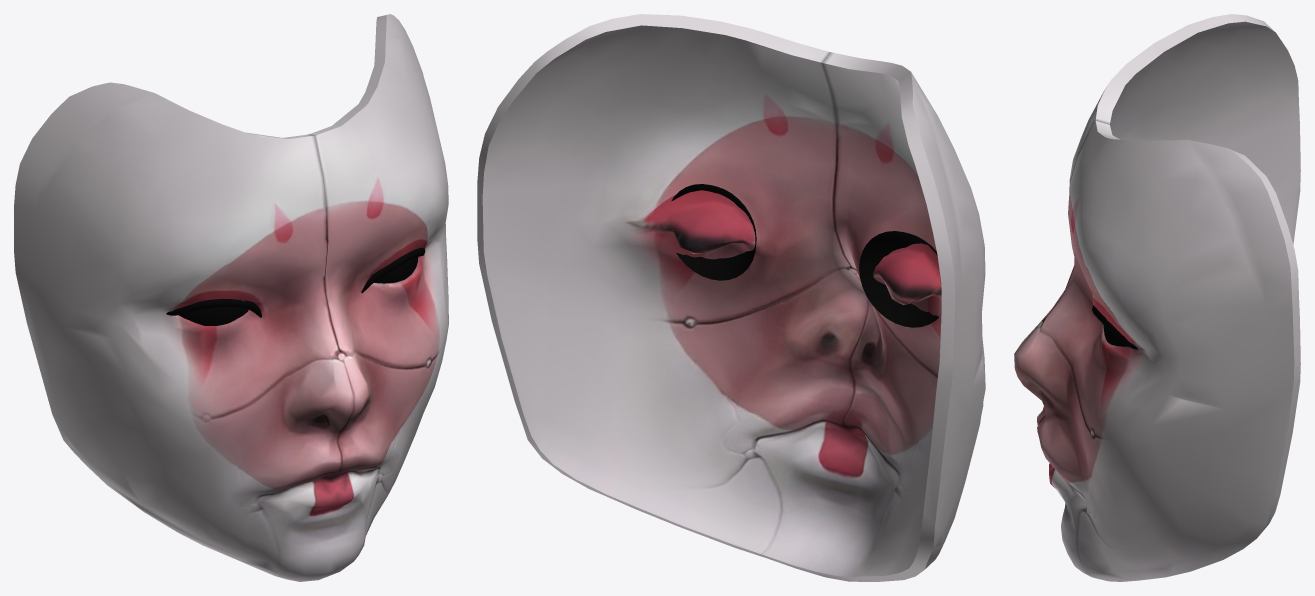
File: ghost_in_the_shell_geisha_mask.glb
3 renders of one model, left to right at view 1: azimuth 30°, elevation 25°; view 2: azimuth 150°, elevation 25°; view 3: azimuth 270°, elevation 25°, orthographic. The views are drawn at different scales.
Parts seen in each view (by area): view 1: Object_12, Object_9, Object_15; view 2: Object_12, Object_9; view 3: Object_12.
Part boxes in pixels (x1,y1,x2,y2): Object_12: (14,14,448,581); Object_9: (179,256,418,325); Object_15: (166,247,425,317); Object_12: (477,14,985,581); Object_9: (671,184,938,327); Object_12: (1014,14,1300,581).
Size of the model in its own units: 1.76 by 2 by 1.05.
3 materials, 3 textured.
